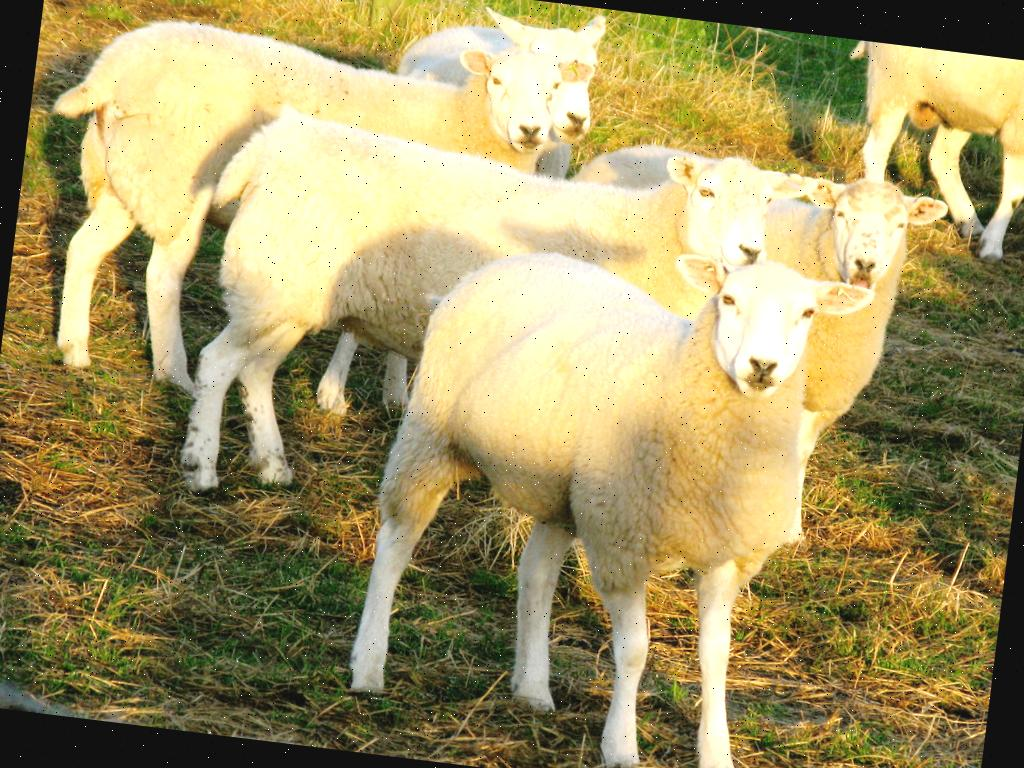Sheep: (174, 92, 817, 560), (350, 219, 873, 768), (18, 0, 601, 439), (530, 142, 954, 554), (822, 38, 1024, 268), (380, 0, 608, 180)
